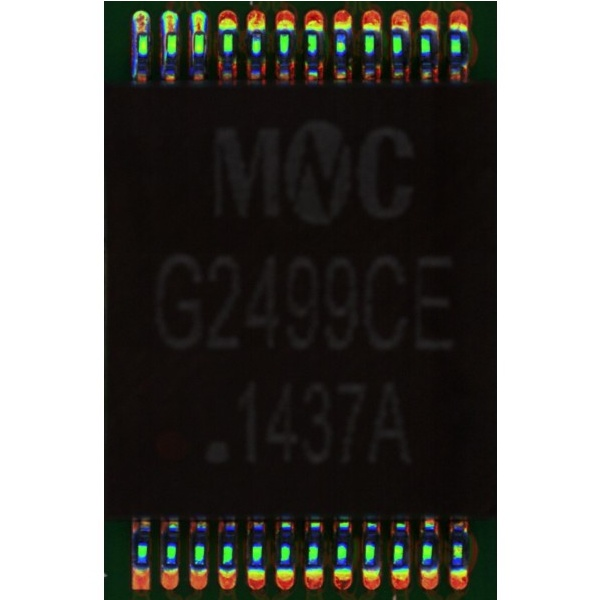Bad_podu: (193, 23, 203, 41), (166, 21, 174, 40), (138, 24, 146, 37)
Bad_qiaojiao: (131, 34, 136, 77), (161, 33, 165, 74), (190, 31, 194, 65)
